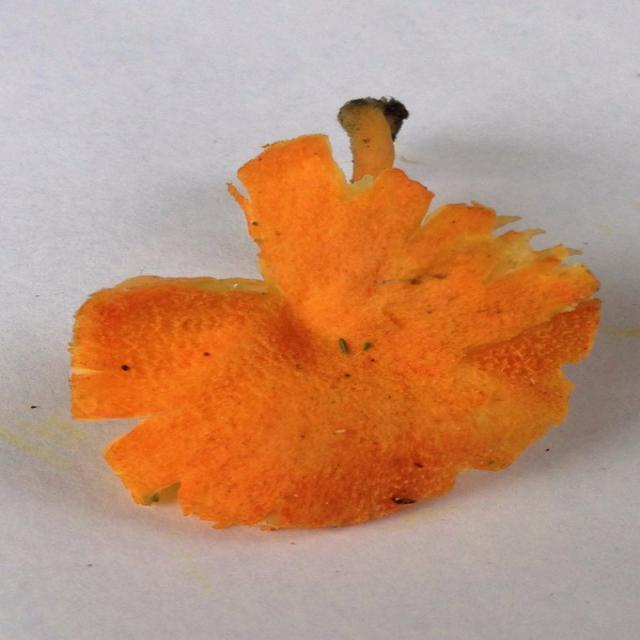Cantharellus cibarius: (77, 96, 599, 532)
